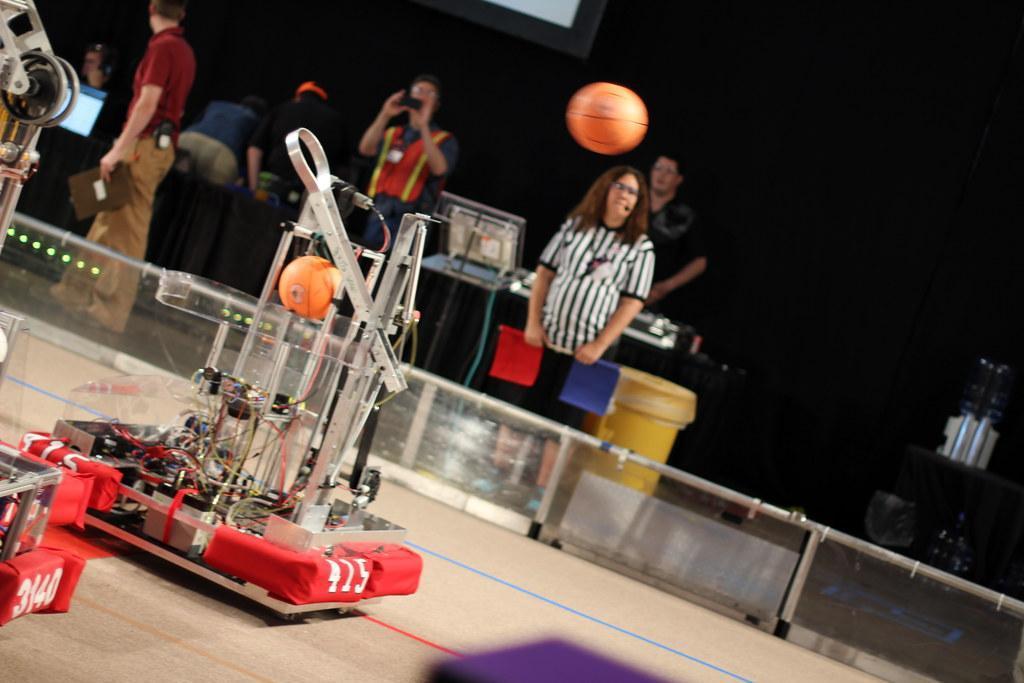robot: (47, 123, 429, 617), (0, 433, 86, 615)
